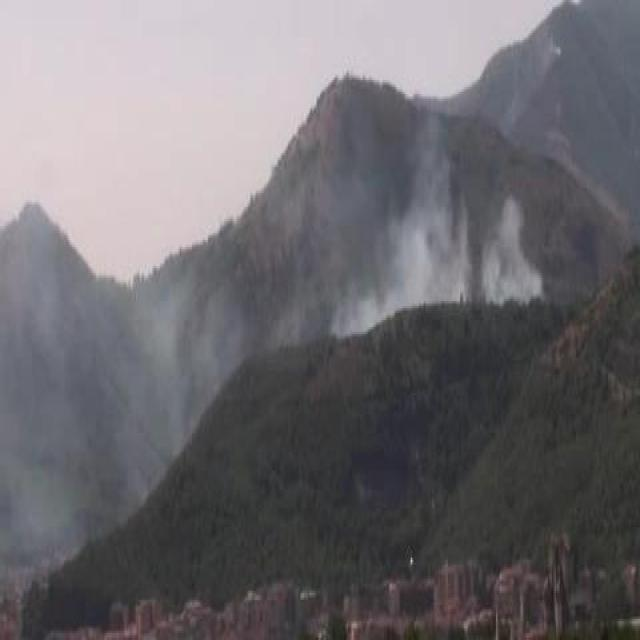Smoke: (336, 185, 541, 326), (83, 296, 205, 433)
